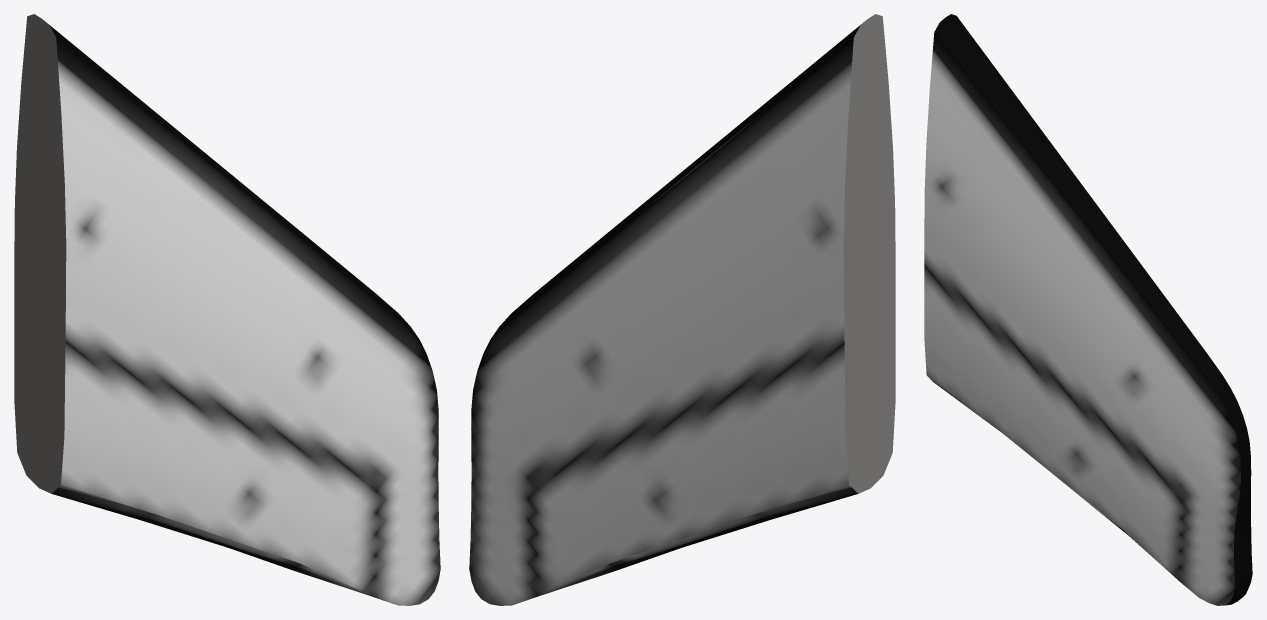
Rendered from Puzzle_3_Cell_04.glb.
3 views of the same model, side by side, from view 1: azimuth 30°, elevation 25°; view 2: azimuth 150°, elevation 25°; view 3: azimuth 330°, elevation 25° (orthographic). The views are drawn at different scales.
Visible parts, largest first — view 1: Puzzle_3_Cell_04; view 2: Puzzle_3_Cell_04; view 3: Puzzle_3_Cell_04.
Boxes of the visible parts, box(x1,y1,x2,y2) form: Puzzle_3_Cell_04: box(14, 14, 440, 605); Puzzle_3_Cell_04: box(469, 14, 895, 605); Puzzle_3_Cell_04: box(924, 14, 1252, 605).
Bounding box in the file's own units: 10 × 16.13 × 2.26.
2 materials, 2 textured.
